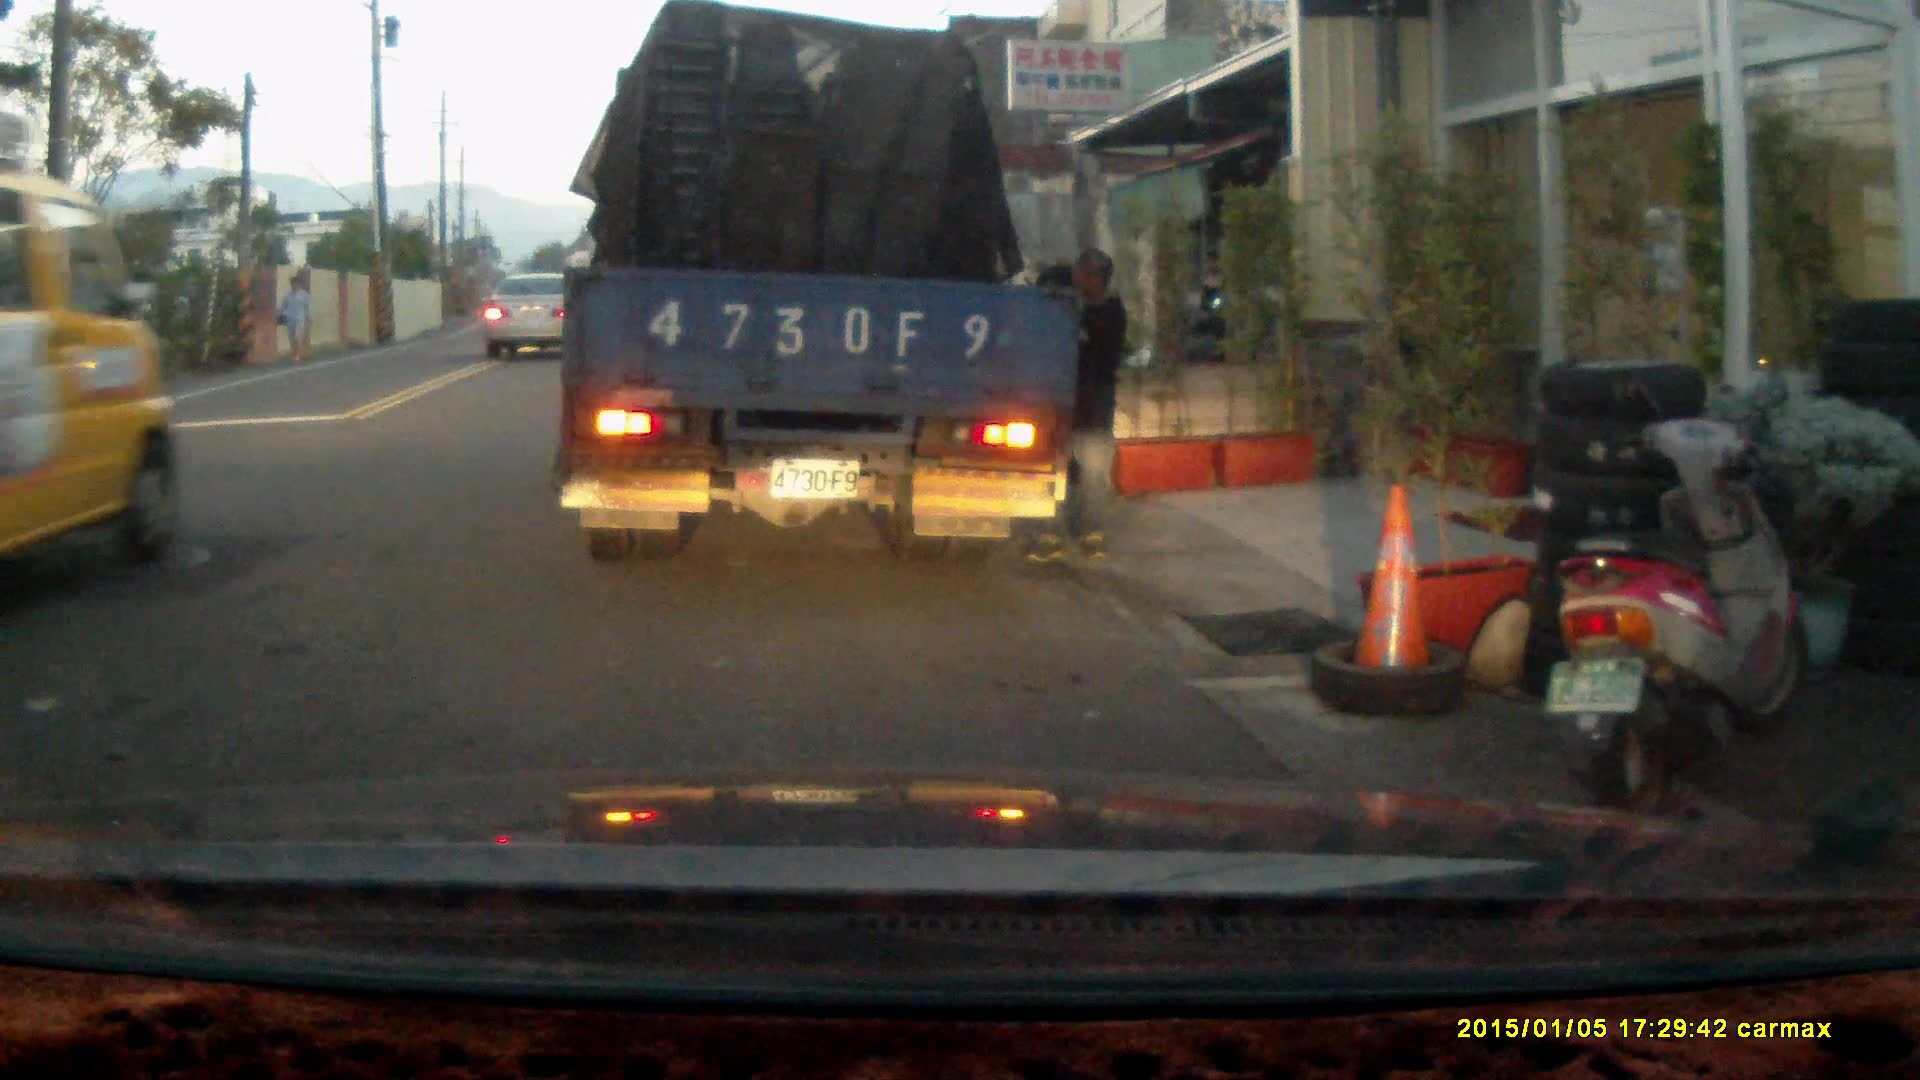pedestrian: (1009, 243, 1127, 561), (271, 272, 312, 366)
vehicle: (557, 25, 1068, 555), (1, 124, 182, 571), (486, 270, 586, 355)
